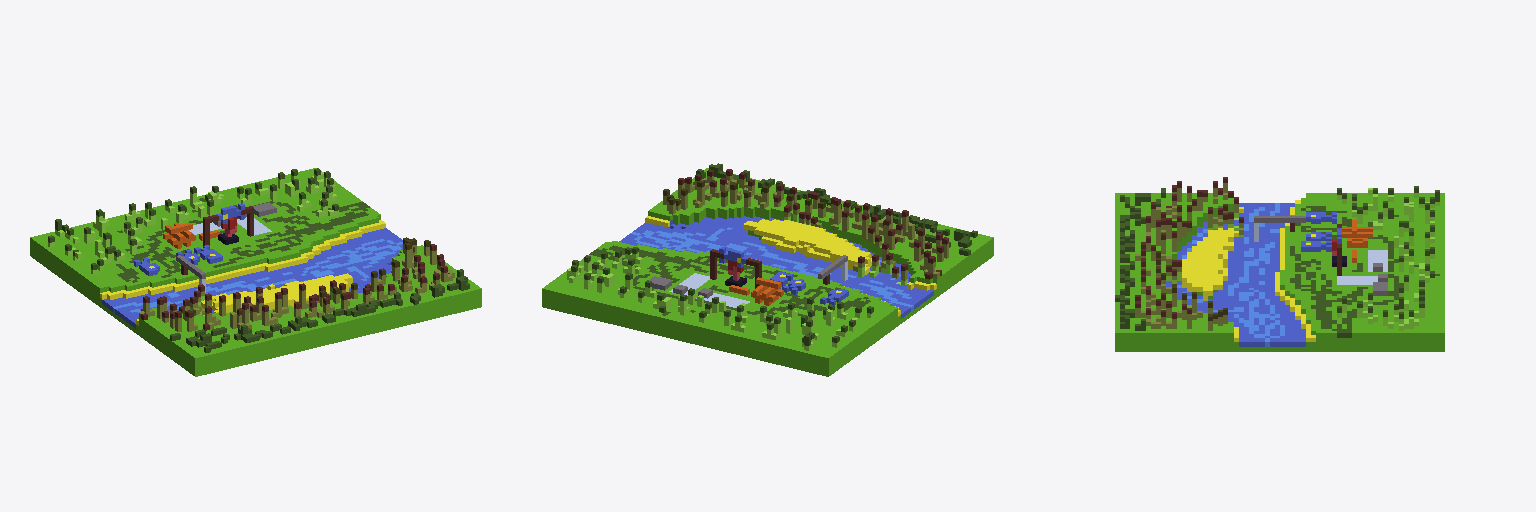
3 renders of one model, left to right at view 1: azimuth 30°, elevation 25°; view 2: azimuth 150°, elevation 25°; view 3: azimuth 270°, elevation 25°, orthographic.
Visible parts, largest first — view 1: object 1; view 2: object 1; view 3: object 1.
Part boxes in pixels (x1,y1,x2,y2): object 1: (30,168,481,376); object 1: (542,163,993,376); object 1: (1115,177,1444,351).
Bounding box in the file's own units: 6.4 × 1.1 × 6.4.
Materials: 1 (1 with a texture image).